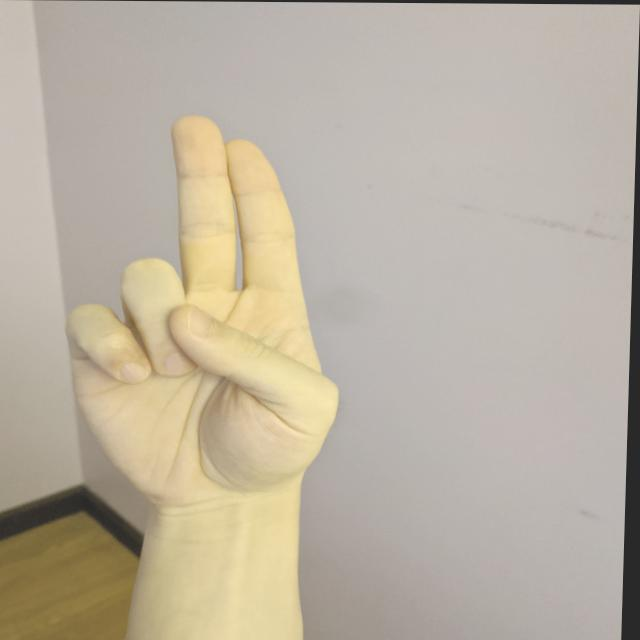U: (59, 109, 354, 511)
